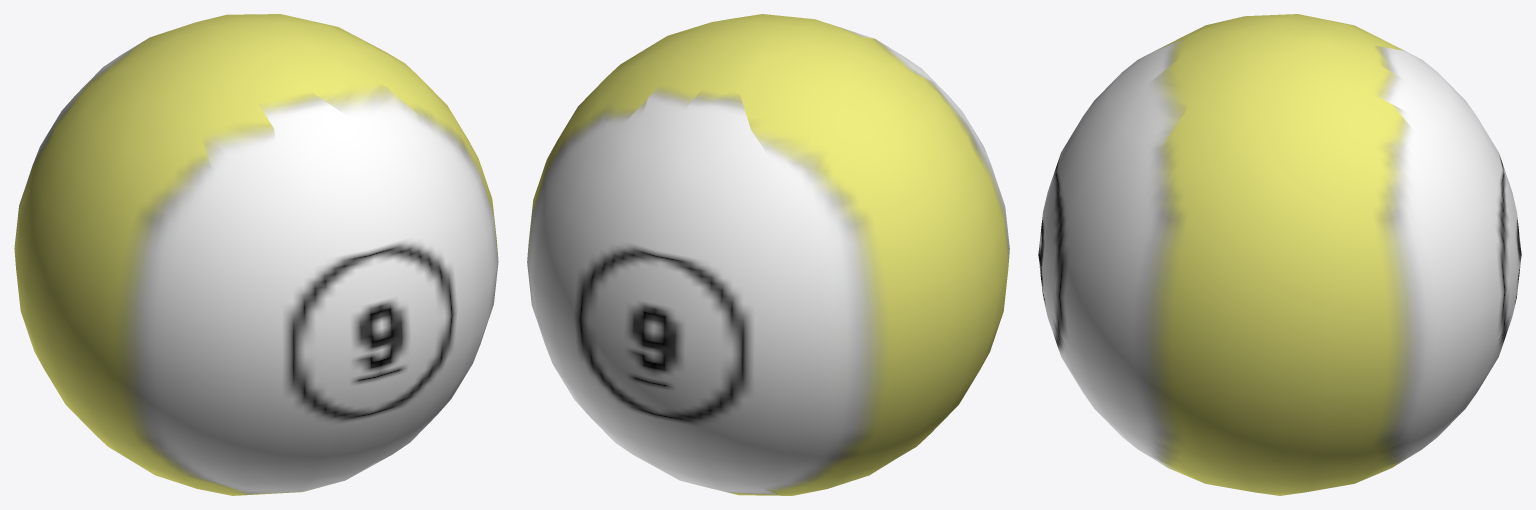
Rendered from ball9.FBX.
The picture shows the model from 3 angles, left to right: view 1: azimuth 30°, elevation 25°; view 2: azimuth 150°, elevation 25°; view 3: azimuth 270°, elevation 25°; orthographic projection.
Visible parts, largest first — view 1: Sphere01; view 2: Sphere01; view 3: Sphere01.
Part boxes in pixels (bbox=[...]): Sphere01: bbox=[14, 14, 498, 495]; Sphere01: bbox=[527, 14, 1009, 495]; Sphere01: bbox=[1038, 14, 1521, 495].
Bounding box in the file's own units: 12.04 × 12.04 × 12.04.
Materials: 1 (1 with a texture image).
